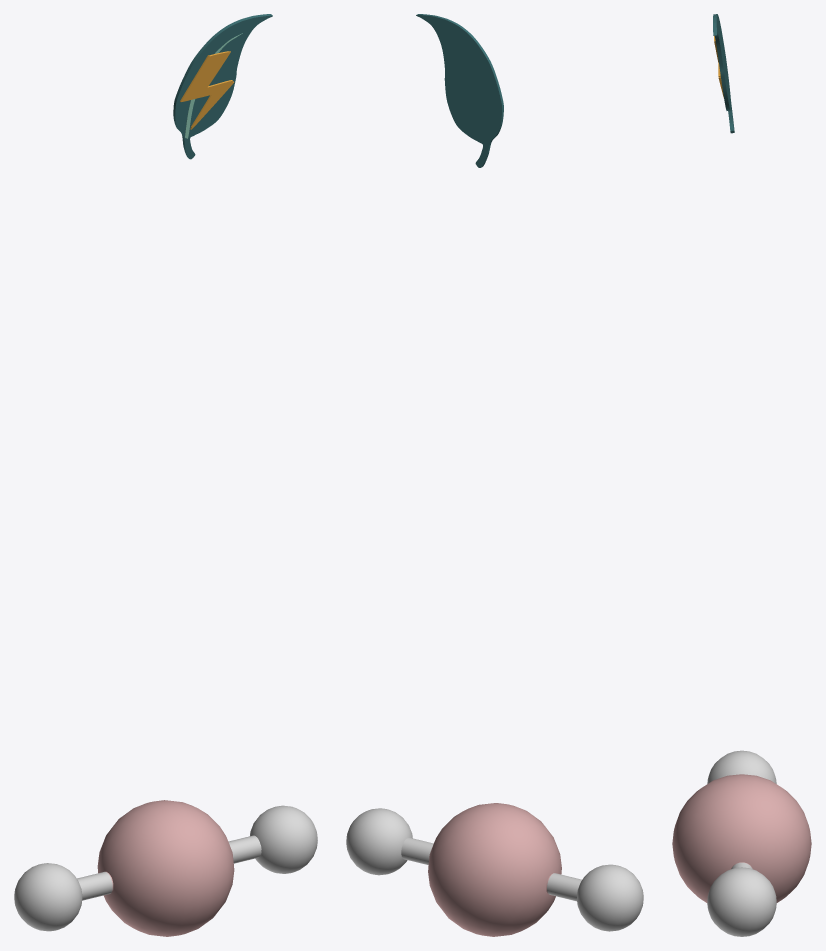
The model's file is lin.glb.
3 renders of one model, left to right at view 1: azimuth 30°, elevation 25°; view 2: azimuth 150°, elevation 25°; view 3: azimuth 270°, elevation 25°, orthographic. The views are drawn at different scales.
Parts seen in each view (by area): view 1: becl2_lineal, path182, path186; view 2: becl2_lineal, path182; view 3: becl2_lineal, path182.
Boxes of the visible parts, left/top/right/bottom form: becl2_lineal: left=14, top=800, right=317, bottom=936; path182: left=173, top=14, right=272, bottom=159; path186: left=180, top=51, right=233, bottom=129; becl2_lineal: left=346, top=803, right=643, bottom=936; path182: left=416, top=14, right=503, bottom=167; becl2_lineal: left=672, top=750, right=811, bottom=936; path182: left=713, top=14, right=734, bottom=133.
Size of the model in its own units: 1.88 by 5.52 by 0.7563.
